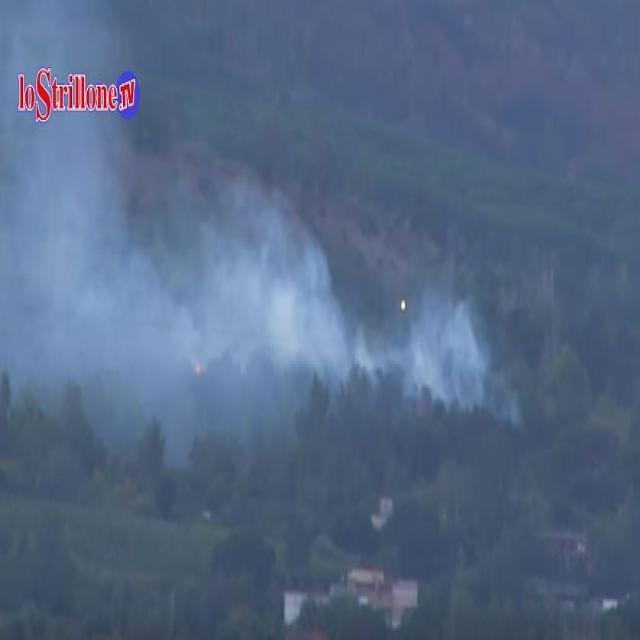Fire: (192, 362, 204, 379), (398, 296, 406, 314)
Smoke: (0, 0, 187, 487), (189, 185, 351, 354), (412, 288, 524, 431), (188, 386, 310, 446), (206, 354, 377, 390), (353, 276, 386, 354), (386, 322, 412, 391)
